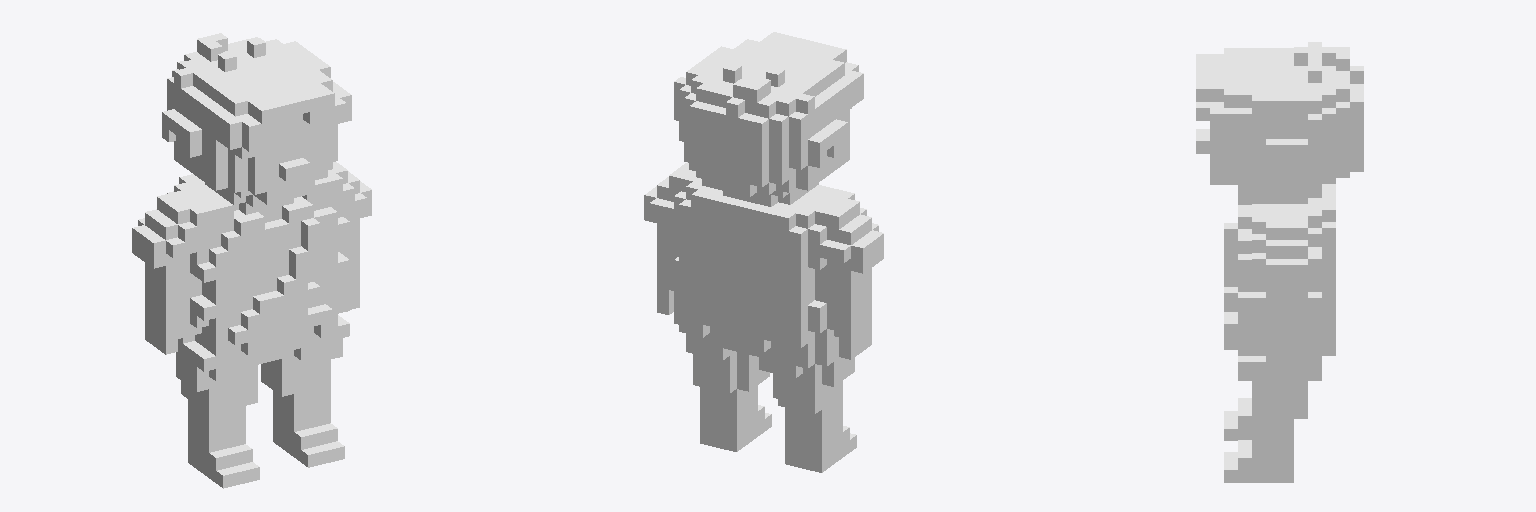
File: meVoxel_ines.obj
3 views of the same model, side by side, from view 1: azimuth 30°, elevation 25°; view 2: azimuth 150°, elevation 25°; view 3: azimuth 270°, elevation 25° (orthographic).
Parts seen in each view (by area): view 1: object 1; view 2: object 1; view 3: object 1.
Boxes of the visible parts, x1,y1,x2,y2 form: object 1: [132, 33, 371, 488]; object 1: [644, 32, 883, 472]; object 1: [1196, 42, 1363, 482].
Bounding box in the file's own units: 1.8 × 3.1 × 1.2.